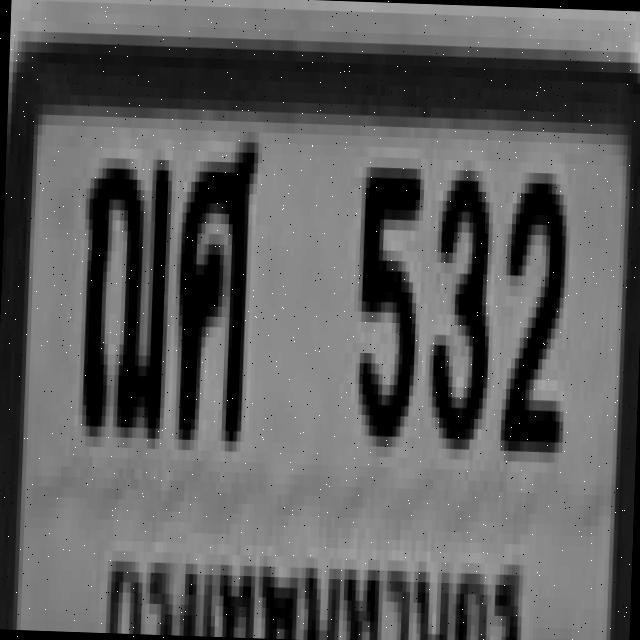2: (496, 162, 564, 442)
21ChorChoe: (78, 146, 168, 428)
3: (426, 159, 491, 439)
47SorSala: (171, 129, 255, 431)
5: (353, 156, 417, 436)
